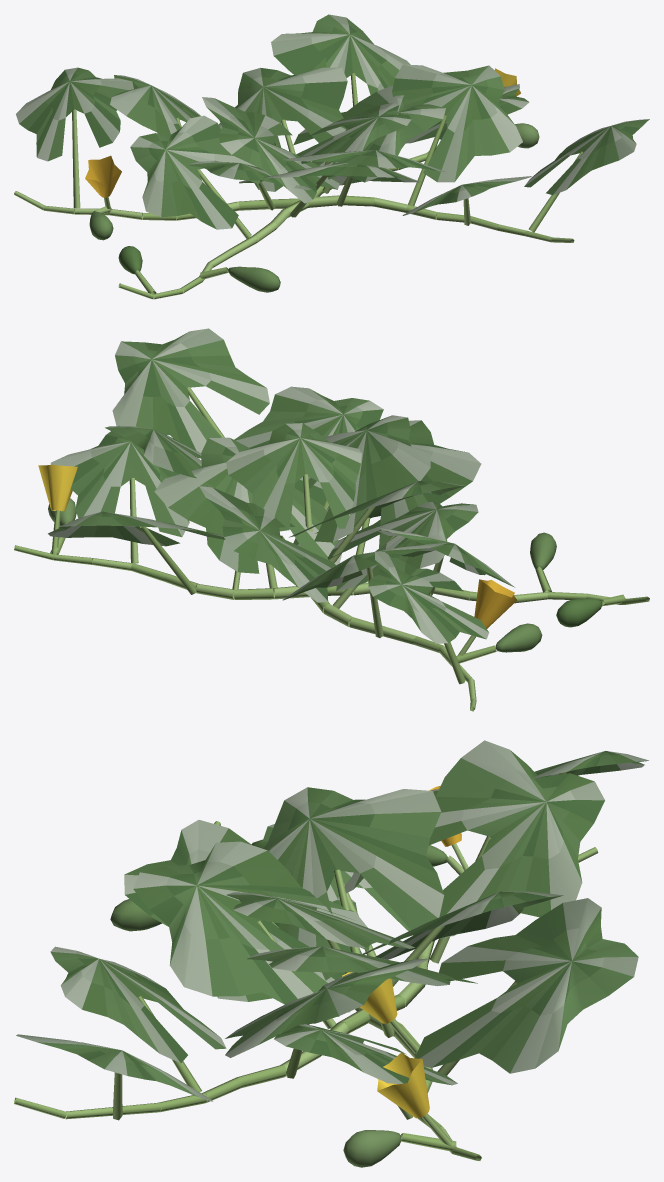
The model's file is courge_butternut_fruits.glb.
3 views of the same model, one above another, from view 1: azimuth 30°, elevation 25°; view 2: azimuth 150°, elevation 25°; view 3: azimuth 270°, elevation 25° (orthographic). The views are drawn at different scales.
Visible parts, largest first — view 1: Courge_Feuilles, Courge_Tiges, Courge_Fruits, Courge_Fleurs; view 2: Courge_Feuilles, Courge_Tiges, Courge_Fruits, Courge_Fleurs; view 3: Courge_Feuilles, Courge_Tiges, Courge_Fleurs, Courge_Fruits.
Part boxes in pixels (box(x1,y1,x2,y2)): Courge_Feuilles: box(16, 14, 649, 229); Courge_Tiges: box(14, 73, 582, 299); Courge_Fruits: box(89, 123, 539, 292); Courge_Fleurs: box(85, 68, 520, 197); Courge_Feuilles: box(48, 328, 515, 643); Courge_Tiges: box(14, 386, 649, 711); Courge_Fruits: box(48, 498, 602, 652); Courge_Fleurs: box(38, 464, 517, 628); Courge_Feuilles: box(16, 740, 648, 1101); Courge_Tiges: box(14, 772, 598, 1160); Courge_Fleurs: box(342, 785, 461, 1118); Courge_Fruits: box(110, 839, 447, 1167).
Size of the model in its own units: 1.42 by 0.3234 by 1.07.
